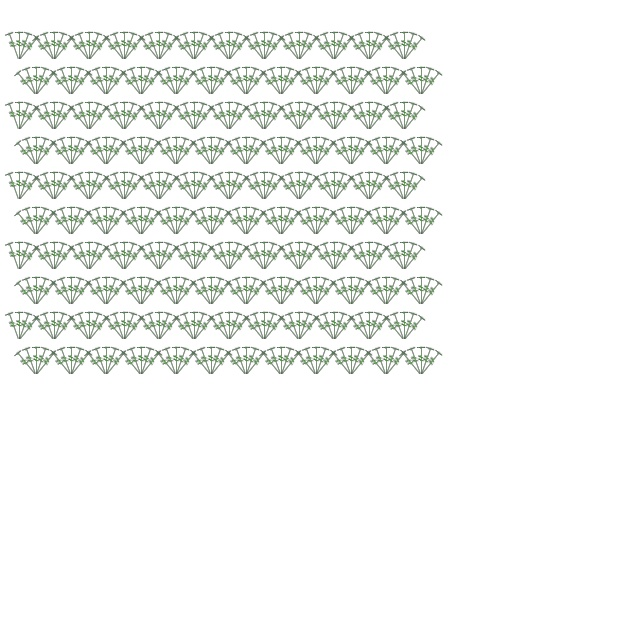fan: (15, 34, 41, 63), (32, 34, 58, 63), (50, 34, 76, 63), (67, 34, 93, 63), (85, 34, 111, 63), (102, 34, 128, 63), (120, 34, 146, 63), (137, 34, 163, 63), (155, 34, 181, 63), (172, 34, 198, 63), (190, 34, 216, 63), (207, 34, 233, 63), (225, 34, 251, 63), (242, 34, 268, 63), (260, 34, 286, 63), (277, 34, 303, 63), (295, 34, 321, 63), (312, 34, 338, 63), (330, 34, 356, 63), (347, 34, 373, 63), (365, 34, 391, 63), (382, 34, 408, 63), (400, 34, 426, 63), (14, 69, 40, 98), (32, 69, 58, 98), (49, 69, 75, 98), (67, 69, 93, 98), (84, 69, 110, 98), (102, 69, 128, 98), (119, 69, 145, 98), (137, 69, 163, 98), (154, 69, 180, 98), (172, 69, 198, 98), (189, 69, 215, 98), (207, 69, 233, 98), (224, 69, 250, 98), (242, 69, 268, 98), (259, 69, 285, 98), (277, 69, 303, 98), (294, 69, 320, 98), (312, 69, 338, 98), (329, 69, 355, 98), (347, 69, 373, 98), (364, 69, 390, 98), (382, 69, 408, 98), (399, 69, 425, 98), (417, 69, 443, 98), (15, 104, 41, 133), (32, 104, 58, 133), (50, 104, 76, 133), (67, 104, 93, 133), (85, 104, 111, 133), (102, 104, 128, 133), (120, 104, 146, 133), (137, 104, 163, 133), (155, 104, 181, 133), (172, 104, 198, 133), (190, 104, 216, 133), (207, 104, 233, 133), (225, 104, 251, 133), (242, 104, 268, 133), (260, 104, 286, 133), (277, 104, 303, 133), (295, 104, 321, 133), (312, 104, 338, 133), (330, 104, 356, 133), (347, 104, 373, 133), (365, 104, 391, 133), (382, 104, 408, 133), (400, 104, 426, 133), (14, 139, 40, 168), (32, 139, 58, 168), (49, 139, 75, 168), (67, 139, 93, 168), (84, 139, 110, 168), (102, 139, 128, 168), (119, 139, 145, 168), (137, 139, 163, 168), (154, 139, 180, 168), (172, 139, 198, 168), (189, 139, 215, 168), (207, 139, 233, 168), (224, 139, 250, 168), (242, 139, 268, 168), (259, 139, 285, 168), (277, 139, 303, 168), (294, 139, 320, 168), (312, 139, 338, 168), (329, 139, 355, 168), (347, 139, 373, 168), (364, 139, 390, 168), (382, 139, 408, 168), (399, 139, 425, 168), (417, 139, 443, 168), (15, 174, 41, 203), (32, 174, 58, 203), (50, 174, 76, 203), (67, 174, 93, 203), (85, 174, 111, 203), (102, 174, 128, 203), (120, 174, 146, 203), (137, 174, 163, 203), (155, 174, 181, 203), (172, 174, 198, 203), (190, 174, 216, 203), (207, 174, 233, 203), (225, 174, 251, 203), (242, 174, 268, 203), (260, 174, 286, 203), (277, 174, 303, 203), (295, 174, 321, 203), (312, 174, 338, 203), (330, 174, 356, 203), (347, 174, 373, 203), (365, 174, 391, 203), (382, 174, 408, 203), (400, 174, 426, 203), (14, 209, 40, 238), (32, 209, 58, 238), (49, 209, 75, 238), (67, 209, 93, 238), (84, 209, 110, 238), (102, 209, 128, 238), (119, 209, 145, 238), (137, 209, 163, 238), (154, 209, 180, 238), (172, 209, 198, 238), (189, 209, 215, 238), (207, 209, 233, 238), (224, 209, 250, 238), (242, 209, 268, 238), (259, 209, 285, 238), (277, 209, 303, 238), (294, 209, 320, 238), (312, 209, 338, 238), (329, 209, 355, 238), (347, 209, 373, 238), (364, 209, 390, 238), (382, 209, 408, 238), (399, 209, 425, 238), (417, 209, 443, 238), (15, 244, 41, 273), (32, 244, 58, 273), (50, 244, 76, 273), (67, 244, 93, 273), (85, 244, 111, 273), (102, 244, 128, 273), (120, 244, 146, 273), (137, 244, 163, 273), (155, 244, 181, 273), (172, 244, 198, 273), (190, 244, 216, 273), (207, 244, 233, 273), (225, 244, 251, 273), (242, 244, 268, 273), (260, 244, 286, 273), (277, 244, 303, 273), (295, 244, 321, 273), (312, 244, 338, 273), (330, 244, 356, 273), (347, 244, 373, 273), (365, 244, 391, 273), (382, 244, 408, 273), (400, 244, 426, 273), (14, 279, 40, 308), (32, 279, 58, 308), (49, 279, 75, 308), (67, 279, 93, 308), (84, 279, 110, 308), (102, 279, 128, 308), (119, 279, 145, 308), (137, 279, 163, 308), (154, 279, 180, 308), (172, 279, 198, 308), (189, 279, 215, 308), (207, 279, 233, 308), (224, 279, 250, 308), (242, 279, 268, 308), (259, 279, 285, 308), (277, 279, 303, 308), (294, 279, 320, 308), (312, 279, 338, 308), (329, 279, 355, 308), (347, 279, 373, 308), (364, 279, 390, 308), (382, 279, 408, 308), (399, 279, 425, 308), (417, 279, 443, 308), (15, 314, 41, 343), (32, 314, 58, 343), (50, 314, 76, 343), (67, 314, 93, 343), (85, 314, 111, 343), (102, 314, 128, 343), (120, 314, 146, 343), (137, 314, 163, 343), (155, 314, 181, 343), (172, 314, 198, 343), (190, 314, 216, 343), (207, 314, 233, 343), (225, 314, 251, 343), (242, 314, 268, 343), (260, 314, 286, 343), (277, 314, 303, 343), (295, 314, 321, 343), (312, 314, 338, 343), (330, 314, 356, 343), (347, 314, 373, 343), (365, 314, 391, 343), (382, 314, 408, 343), (400, 314, 426, 343), (14, 349, 40, 378), (32, 349, 58, 378), (49, 349, 75, 378), (67, 349, 93, 378), (84, 349, 110, 378), (102, 349, 128, 378), (119, 349, 145, 378), (137, 349, 163, 378), (154, 349, 180, 378), (172, 349, 198, 378), (189, 349, 215, 378), (207, 349, 233, 378), (224, 349, 250, 378), (242, 349, 268, 378), (259, 349, 285, 378), (277, 349, 303, 378), (294, 349, 320, 378), (312, 349, 338, 378), (329, 349, 355, 378), (347, 349, 373, 378), (364, 349, 390, 378), (382, 349, 408, 378), (399, 349, 425, 378), (417, 349, 443, 378), (5, 31, 24, 62), (14, 31, 33, 62), (40, 31, 59, 62), (49, 31, 68, 62), (75, 31, 94, 62), (84, 31, 103, 62), (110, 31, 129, 62), (119, 31, 138, 62), (145, 31, 164, 62), (154, 31, 173, 62), (180, 31, 199, 62), (189, 31, 208, 62), (215, 31, 234, 62), (224, 31, 243, 62), (250, 31, 269, 62), (259, 31, 278, 62), (285, 31, 304, 62), (294, 31, 313, 62), (320, 31, 339, 62), (329, 31, 348, 62), (355, 31, 374, 62), (364, 31, 383, 62), (390, 31, 409, 62), (399, 31, 418, 62), (22, 66, 41, 97), (31, 66, 50, 97), (57, 66, 76, 97), (66, 66, 85, 97), (92, 66, 111, 97), (101, 66, 120, 97), (127, 66, 146, 97), (136, 66, 155, 97), (162, 66, 181, 97), (171, 66, 190, 97), (197, 66, 216, 97), (206, 66, 225, 97), (232, 66, 251, 97), (241, 66, 260, 97), (267, 66, 286, 97), (276, 66, 295, 97), (302, 66, 321, 97), (311, 66, 330, 97), (337, 66, 356, 97), (346, 66, 365, 97), (372, 66, 391, 97), (381, 66, 400, 97), (407, 66, 426, 97), (416, 66, 435, 97), (5, 101, 24, 132), (14, 101, 33, 132), (40, 101, 59, 132), (49, 101, 68, 132), (75, 101, 94, 132), (84, 101, 103, 132), (110, 101, 129, 132), (119, 101, 138, 132), (145, 101, 164, 132), (154, 101, 173, 132), (180, 101, 199, 132), (189, 101, 208, 132), (215, 101, 234, 132), (224, 101, 243, 132), (250, 101, 269, 132), (259, 101, 278, 132), (285, 101, 304, 132), (294, 101, 313, 132), (320, 101, 339, 132), (329, 101, 348, 132), (355, 101, 374, 132), (364, 101, 383, 132), (390, 101, 409, 132), (399, 101, 418, 132), (22, 136, 41, 167), (31, 136, 50, 167), (57, 136, 76, 167), (66, 136, 85, 167), (92, 136, 111, 167), (101, 136, 120, 167), (127, 136, 146, 167), (136, 136, 155, 167), (162, 136, 181, 167), (171, 136, 190, 167), (197, 136, 216, 167), (206, 136, 225, 167), (232, 136, 251, 167), (241, 136, 260, 167), (267, 136, 286, 167), (276, 136, 295, 167), (302, 136, 321, 167), (311, 136, 330, 167), (337, 136, 356, 167), (346, 136, 365, 167), (372, 136, 391, 167), (381, 136, 400, 167), (407, 136, 426, 167), (416, 136, 435, 167), (5, 171, 24, 202), (14, 171, 33, 202), (40, 171, 59, 202), (49, 171, 68, 202), (75, 171, 94, 202), (84, 171, 103, 202), (110, 171, 129, 202), (119, 171, 138, 202), (145, 171, 164, 202), (154, 171, 173, 202), (180, 171, 199, 202), (189, 171, 208, 202), (215, 171, 234, 202), (224, 171, 243, 202), (250, 171, 269, 202), (259, 171, 278, 202), (285, 171, 304, 202), (294, 171, 313, 202), (320, 171, 339, 202), (329, 171, 348, 202), (355, 171, 374, 202), (364, 171, 383, 202), (390, 171, 409, 202), (399, 171, 418, 202), (22, 206, 41, 237), (31, 206, 50, 237), (57, 206, 76, 237), (66, 206, 85, 237), (92, 206, 111, 237), (101, 206, 120, 237), (127, 206, 146, 237), (136, 206, 155, 237), (162, 206, 181, 237), (171, 206, 190, 237), (197, 206, 216, 237), (206, 206, 225, 237), (232, 206, 251, 237), (241, 206, 260, 237), (267, 206, 286, 237), (276, 206, 295, 237), (302, 206, 321, 237), (311, 206, 330, 237), (337, 206, 356, 237), (346, 206, 365, 237), (372, 206, 391, 237), (381, 206, 400, 237), (407, 206, 426, 237), (416, 206, 435, 237), (5, 241, 24, 272), (14, 241, 33, 272), (40, 241, 59, 272), (49, 241, 68, 272), (75, 241, 94, 272), (84, 241, 103, 272), (110, 241, 129, 272), (119, 241, 138, 272), (145, 241, 164, 272), (154, 241, 173, 272), (180, 241, 199, 272), (189, 241, 208, 272), (215, 241, 234, 272), (224, 241, 243, 272), (250, 241, 269, 272), (259, 241, 278, 272), (285, 241, 304, 272), (294, 241, 313, 272), (320, 241, 339, 272), (329, 241, 348, 272), (355, 241, 374, 272), (364, 241, 383, 272), (390, 241, 409, 272), (399, 241, 418, 272), (22, 276, 41, 307), (31, 276, 50, 307), (57, 276, 76, 307), (66, 276, 85, 307), (92, 276, 111, 307), (101, 276, 120, 307), (127, 276, 146, 307), (136, 276, 155, 307), (162, 276, 181, 307), (171, 276, 190, 307), (197, 276, 216, 307), (206, 276, 225, 307), (232, 276, 251, 307), (241, 276, 260, 307), (267, 276, 286, 307), (276, 276, 295, 307), (302, 276, 321, 307), (311, 276, 330, 307), (337, 276, 356, 307), (346, 276, 365, 307), (372, 276, 391, 307), (381, 276, 400, 307), (407, 276, 426, 307), (416, 276, 435, 307), (5, 311, 24, 342), (14, 311, 33, 342), (40, 311, 59, 342), (49, 311, 68, 342), (75, 311, 94, 342), (84, 311, 103, 342), (110, 311, 129, 342), (119, 311, 138, 342), (145, 311, 164, 342), (154, 311, 173, 342), (180, 311, 199, 342), (189, 311, 208, 342), (215, 311, 234, 342), (224, 311, 243, 342), (250, 311, 269, 342), (259, 311, 278, 342), (285, 311, 304, 342), (294, 311, 313, 342), (320, 311, 339, 342), (329, 311, 348, 342), (355, 311, 374, 342), (364, 311, 383, 342), (390, 311, 409, 342), (399, 311, 418, 342), (22, 346, 41, 377), (31, 346, 50, 377), (57, 346, 76, 377), (66, 346, 85, 377), (92, 346, 111, 377), (101, 346, 120, 377), (127, 346, 146, 377), (136, 346, 155, 377), (162, 346, 181, 377), (171, 346, 190, 377), (197, 346, 216, 377), (206, 346, 225, 377), (232, 346, 251, 377), (241, 346, 260, 377), (267, 346, 286, 377), (276, 346, 295, 377), (302, 346, 321, 377), (311, 346, 330, 377), (337, 346, 356, 377), (346, 346, 365, 377), (372, 346, 391, 377), (381, 346, 400, 377), (407, 346, 426, 377), (416, 346, 435, 377), (14, 31, 24, 60), (49, 31, 59, 60), (84, 31, 94, 60), (119, 31, 129, 60), (154, 31, 164, 60), (189, 31, 199, 60), (224, 31, 234, 60), (259, 31, 269, 60), (294, 31, 304, 60), (329, 31, 339, 60), (364, 31, 374, 60), (399, 31, 409, 60), (31, 66, 41, 95), (66, 66, 76, 95), (101, 66, 111, 95), (136, 66, 146, 95), (171, 66, 181, 95), (206, 66, 216, 95), (241, 66, 251, 95), (276, 66, 286, 95), (311, 66, 321, 95), (346, 66, 356, 95), (381, 66, 391, 95), (416, 66, 426, 95), (14, 101, 24, 130), (49, 101, 59, 130), (84, 101, 94, 130), (119, 101, 129, 130), (154, 101, 164, 130), (189, 101, 199, 130), (224, 101, 234, 130), (259, 101, 269, 130), (294, 101, 304, 130), (329, 101, 339, 130), (364, 101, 374, 130), (399, 101, 409, 130), (31, 136, 41, 165), (66, 136, 76, 165), (101, 136, 111, 165), (136, 136, 146, 165), (171, 136, 181, 165), (206, 136, 216, 165), (241, 136, 251, 165), (276, 136, 286, 165), (311, 136, 321, 165), (346, 136, 356, 165), (381, 136, 391, 165), (416, 136, 426, 165), (14, 171, 24, 200), (49, 171, 59, 200), (84, 171, 94, 200), (119, 171, 129, 200), (154, 171, 164, 200), (189, 171, 199, 200), (224, 171, 234, 200), (259, 171, 269, 200), (294, 171, 304, 200), (329, 171, 339, 200), (364, 171, 374, 200), (399, 171, 409, 200), (31, 206, 41, 235), (66, 206, 76, 235), (101, 206, 111, 235), (136, 206, 146, 235), (171, 206, 181, 235), (206, 206, 216, 235), (241, 206, 251, 235), (276, 206, 286, 235), (311, 206, 321, 235), (346, 206, 356, 235), (381, 206, 391, 235), (416, 206, 426, 235), (14, 241, 24, 270), (49, 241, 59, 270), (84, 241, 94, 270), (119, 241, 129, 270), (154, 241, 164, 270), (189, 241, 199, 270), (224, 241, 234, 270), (259, 241, 269, 270), (294, 241, 304, 270), (329, 241, 339, 270), (364, 241, 374, 270), (399, 241, 409, 270), (31, 276, 41, 305), (66, 276, 76, 305), (101, 276, 111, 305), (136, 276, 146, 305), (171, 276, 181, 305), (206, 276, 216, 305), (241, 276, 251, 305), (276, 276, 286, 305), (311, 276, 321, 305), (346, 276, 356, 305), (381, 276, 391, 305), (416, 276, 426, 305), (14, 311, 24, 340), (49, 311, 59, 340), (84, 311, 94, 340), (119, 311, 129, 340), (154, 311, 164, 340), (189, 311, 199, 340), (224, 311, 234, 340), (259, 311, 269, 340), (294, 311, 304, 340), (329, 311, 339, 340), (364, 311, 374, 340), (399, 311, 409, 340), (31, 346, 41, 375), (66, 346, 76, 375), (101, 346, 111, 375), (136, 346, 146, 375), (171, 346, 181, 375), (206, 346, 216, 375), (241, 346, 251, 375), (276, 346, 286, 375), (311, 346, 321, 375), (346, 346, 356, 375), (381, 346, 391, 375), (416, 346, 426, 375)
